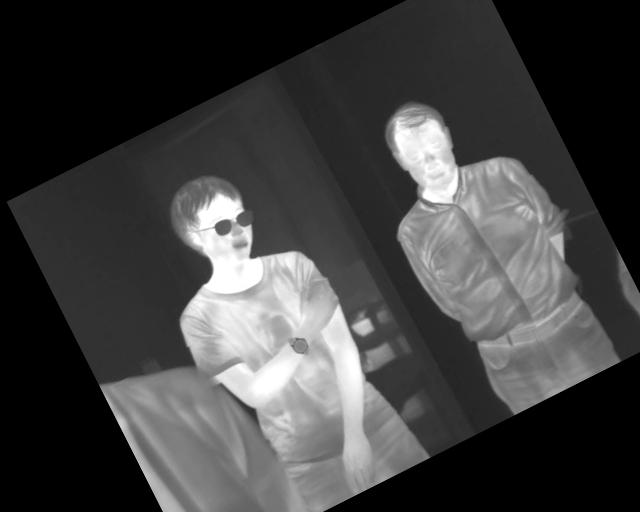face: (157, 162, 269, 284), (373, 88, 474, 203)
